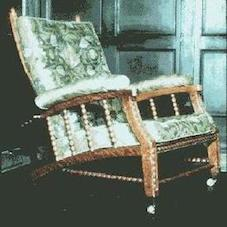chair: (3, 2, 219, 211)
